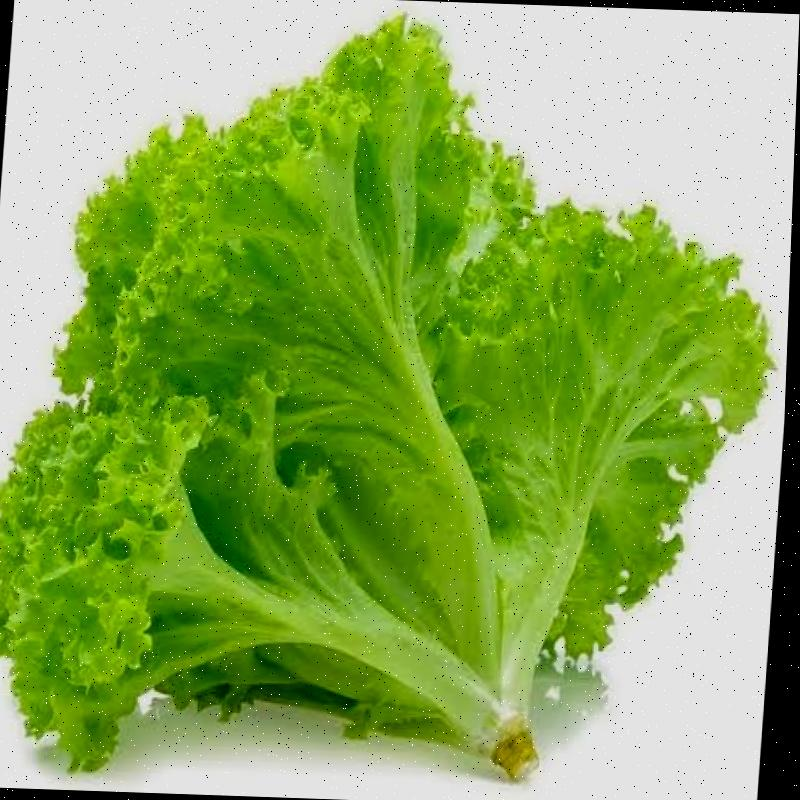vegetable peels: (0, 14, 774, 785)
